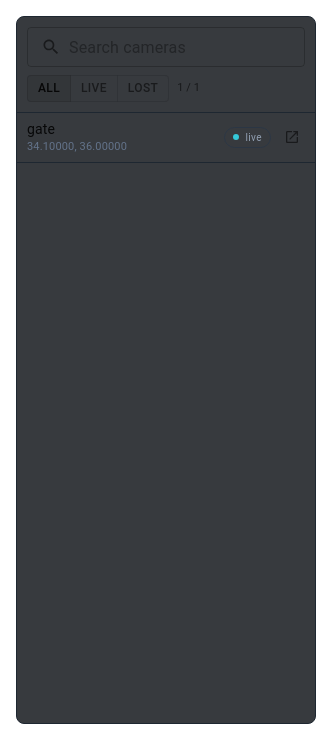
the globe’s camera list › ★ an empty result names the reason: the filter, not a search nobody typed
Click the button "Lost". click: point(143, 88)
box: x1=117 y1=75 x2=169 y2=102
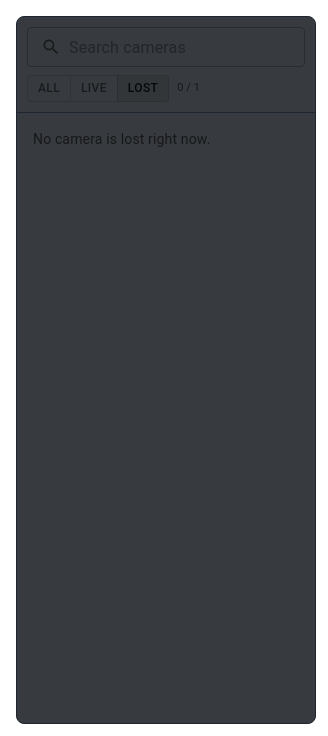
Expected: the text "No camera is lost right now." is shown, x1=33 y1=131 x2=210 y2=147
